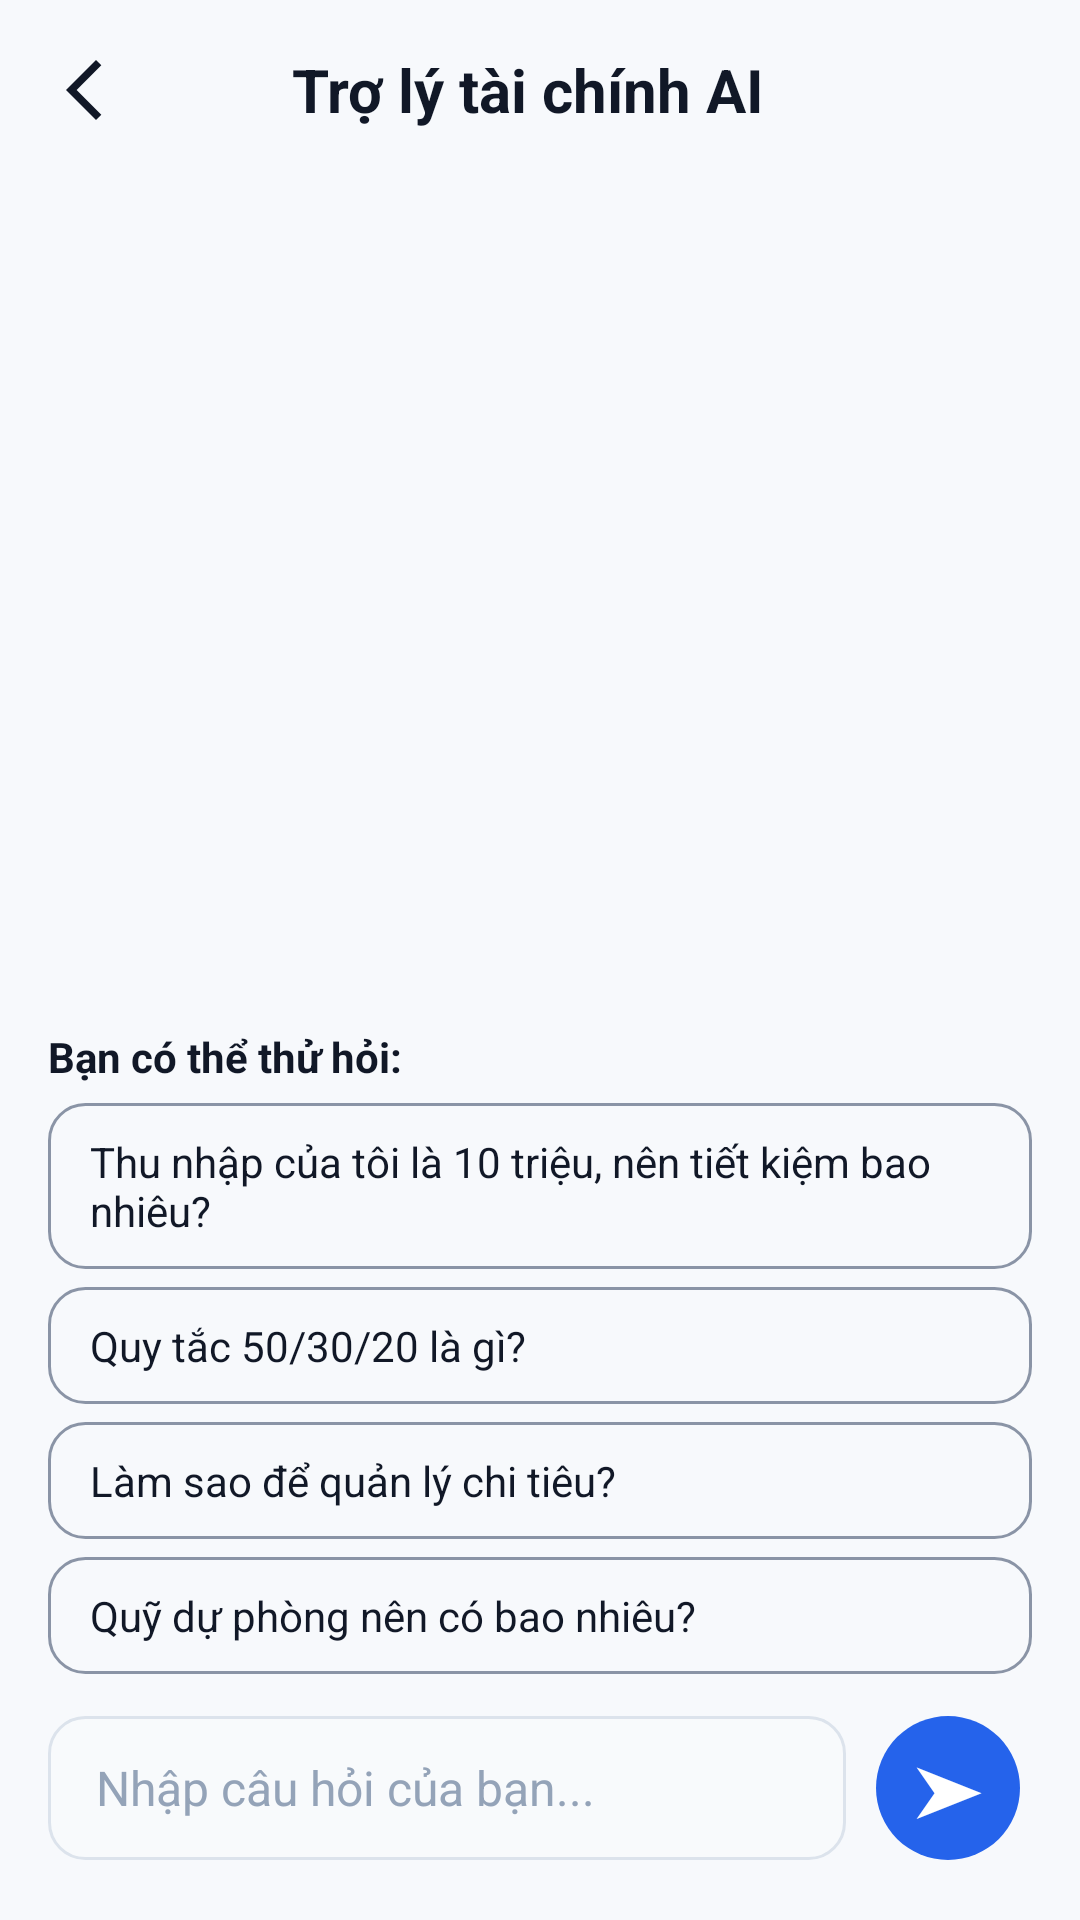

Point at icon controls on the screen. Image size 1080 × 1920, points as point (x, y).
Quay lại: point (83, 90)
